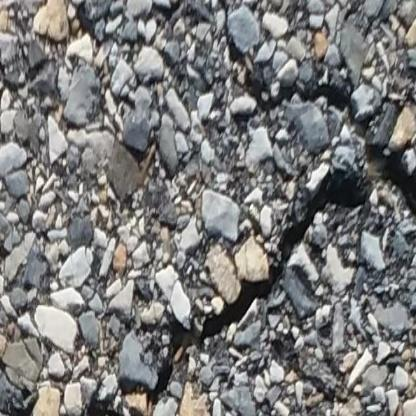Cracks: (155, 34, 416, 409), (76, 400, 153, 416), (0, 402, 29, 416)
